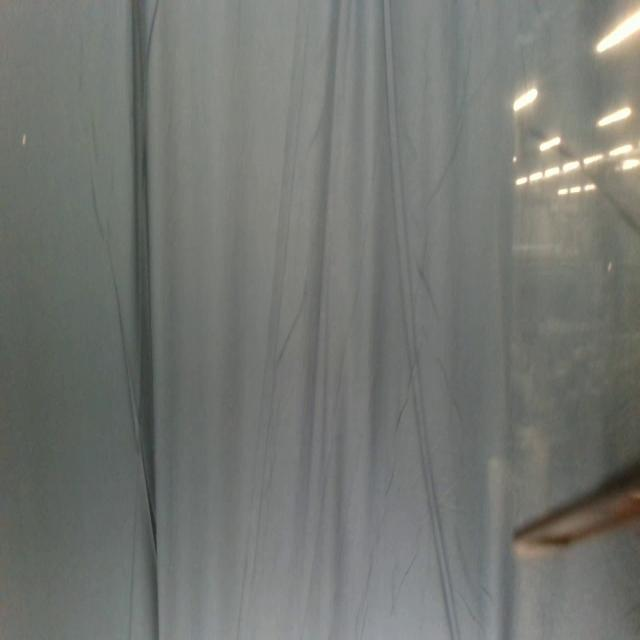crease: (382, 1, 463, 638), (236, 0, 315, 635), (85, 0, 158, 640)
hole: (604, 257, 616, 276), (20, 130, 28, 148)
